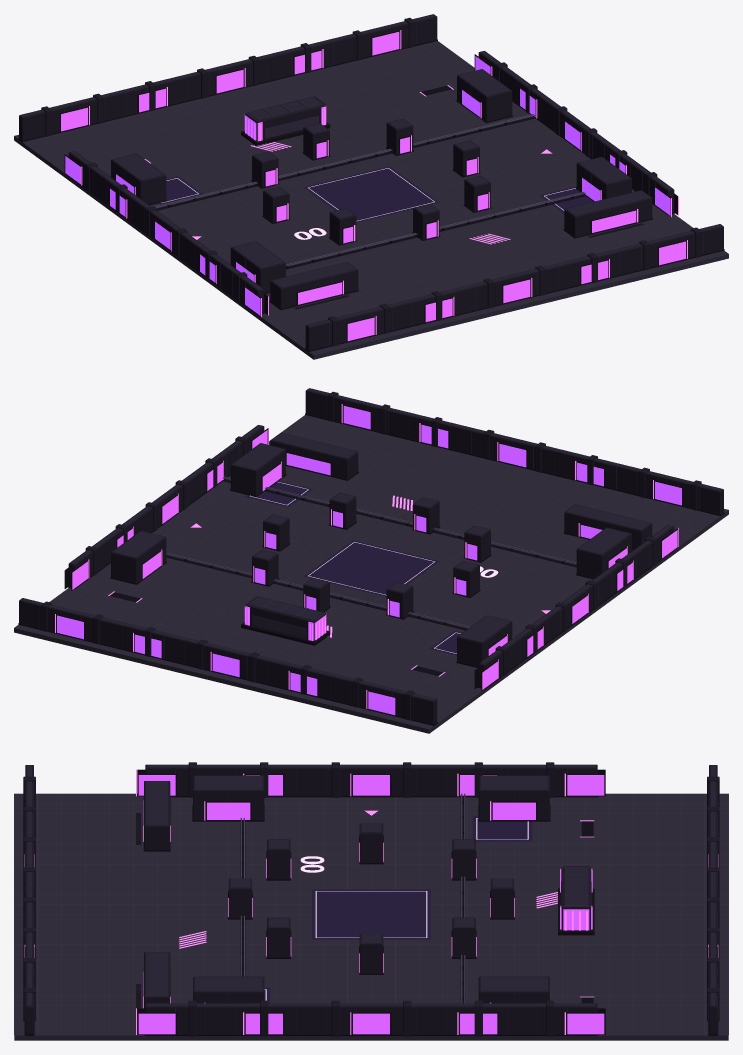
File: arena_core.glb
The picture shows the model from 3 angles, top to bottom: view 1: azimuth 30°, elevation 25°; view 2: azimuth 150°, elevation 25°; view 3: azimuth 270°, elevation 25°; orthographic projection. The views are drawn at different scales.
Visible parts, largest first — view 1: ArenaFloor, ArenaProps; view 2: ArenaFloor, ArenaProps; view 3: ArenaFloor, ArenaProps.
Part boxes in pixels (left/top/right/bottom): ArenaFloor: left=14, top=41, right=728, bottom=359; ArenaProps: left=18, top=14, right=724, bottom=351; ArenaFloor: left=14, top=415, right=728, bottom=733; ArenaProps: left=18, top=388, right=724, bottom=725; ArenaFloor: left=14, top=793, right=728, bottom=1040; ArenaProps: left=23, top=762, right=719, bottom=1036.
Size of the model in its own units: 48.45 by 3.41 by 60.03.
